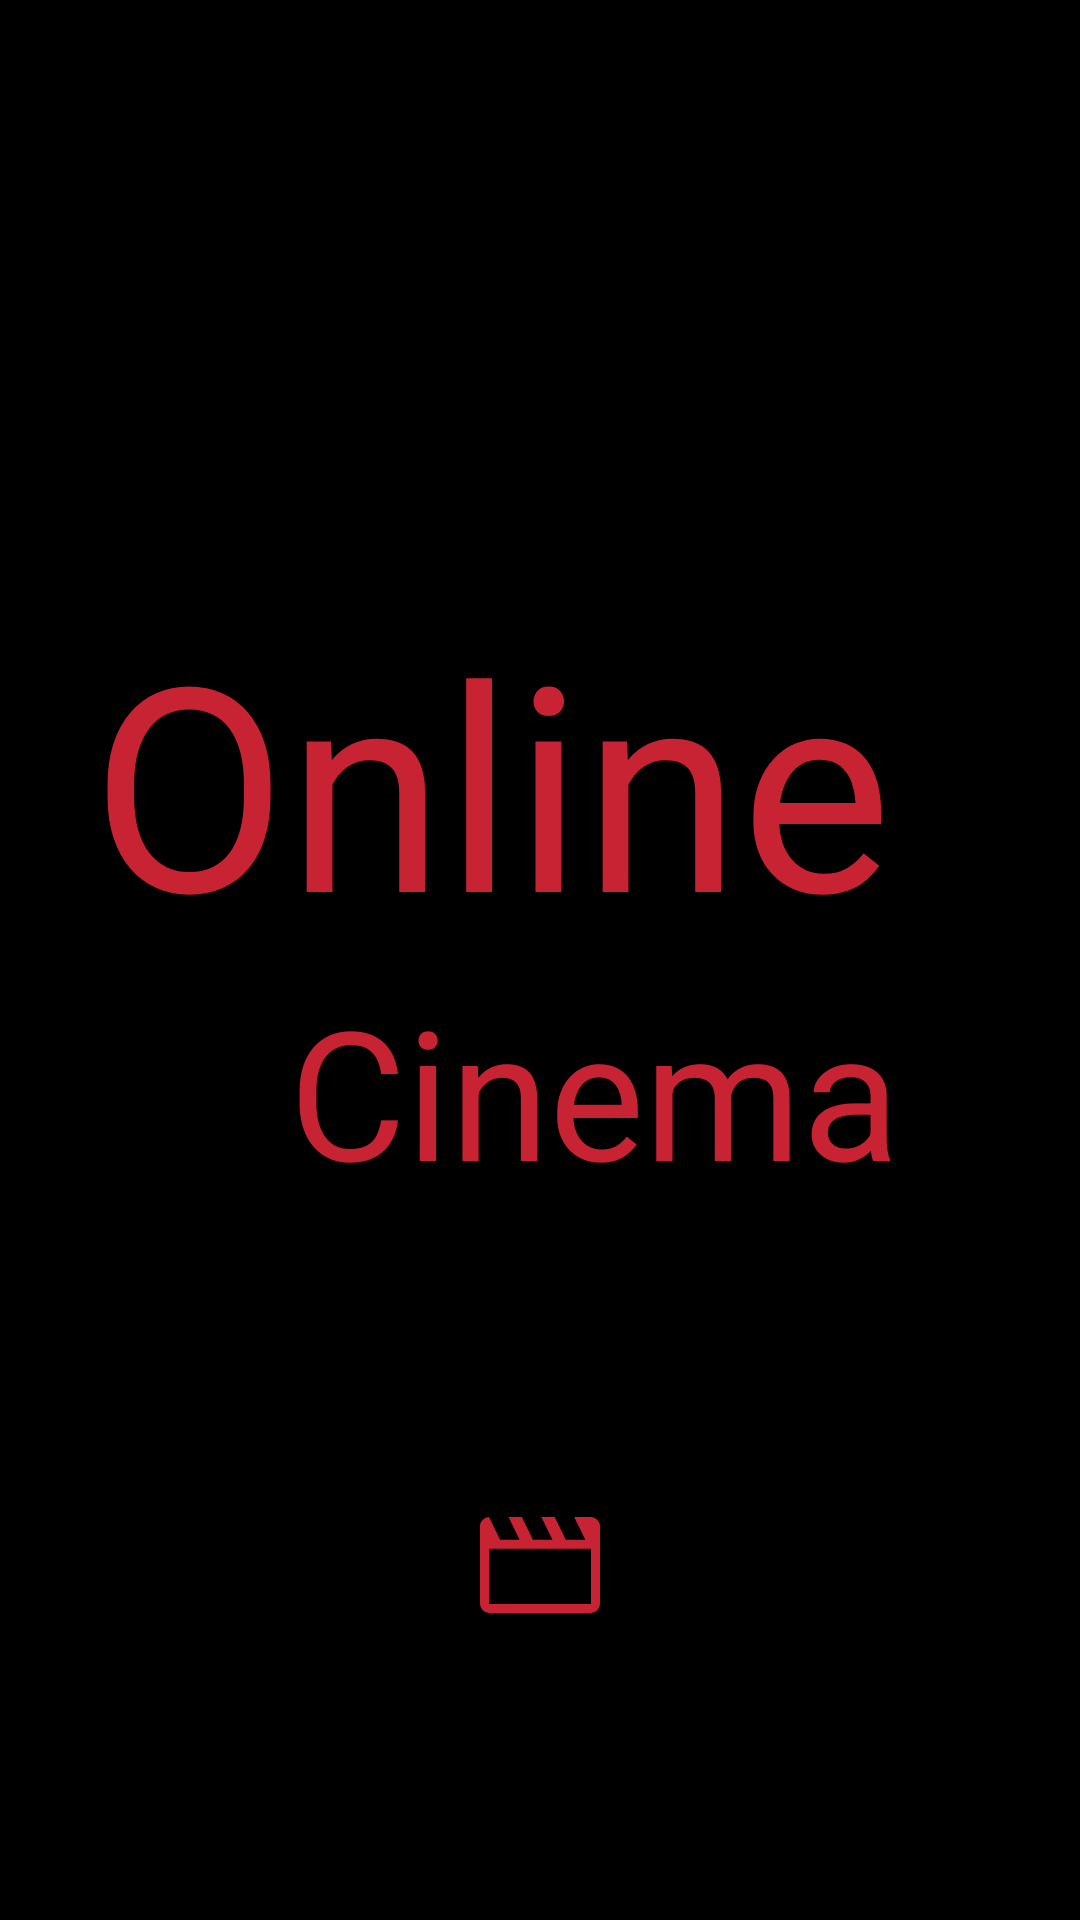

Where to tap for icons on this 1080x1920 app screen, as [x,y]:
movie: [540,1565]
